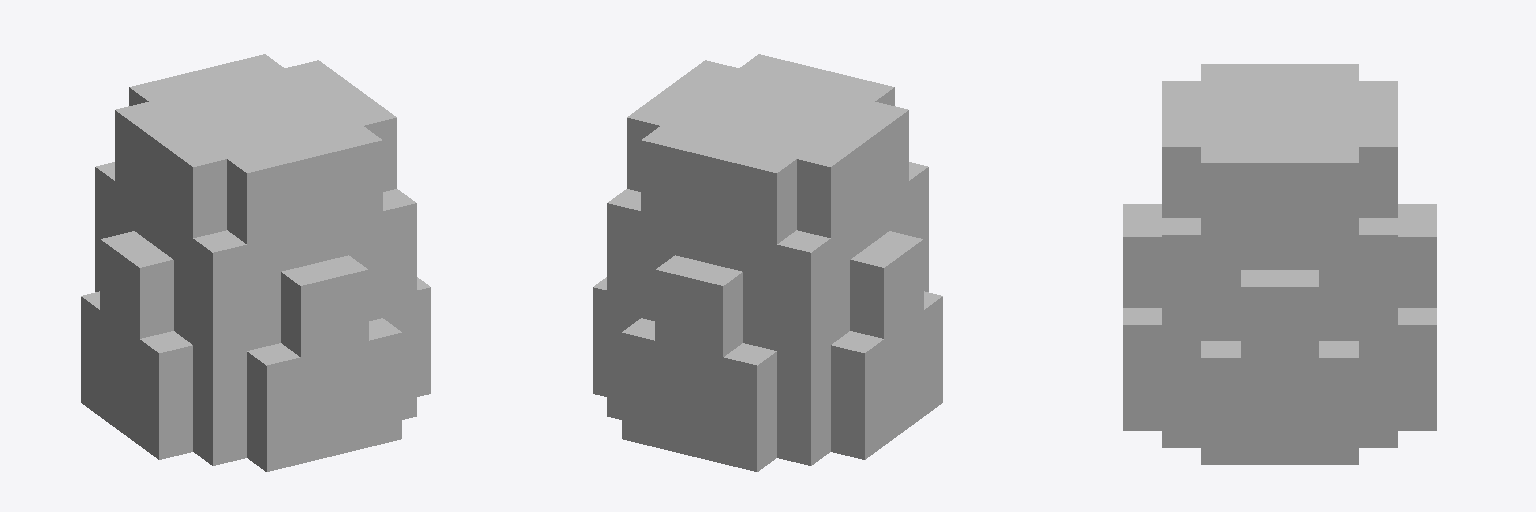
File: lantern.obj
3 views of the same model, side by side, from view 1: azimuth 30°, elevation 25°; view 2: azimuth 150°, elevation 25°; view 3: azimuth 270°, elevation 25° (orthographic).
Parts seen in each view (by area): view 1: object 1; view 2: object 1; view 3: object 1.
Boxes of the visible parts, <box> form: object 1: <box>81,54,430,471</box>; object 1: <box>593,54,942,471</box>; object 1: <box>1123,64,1436,464</box>.
Size of the model in its own units: 0.8 by 0.8 by 0.8.